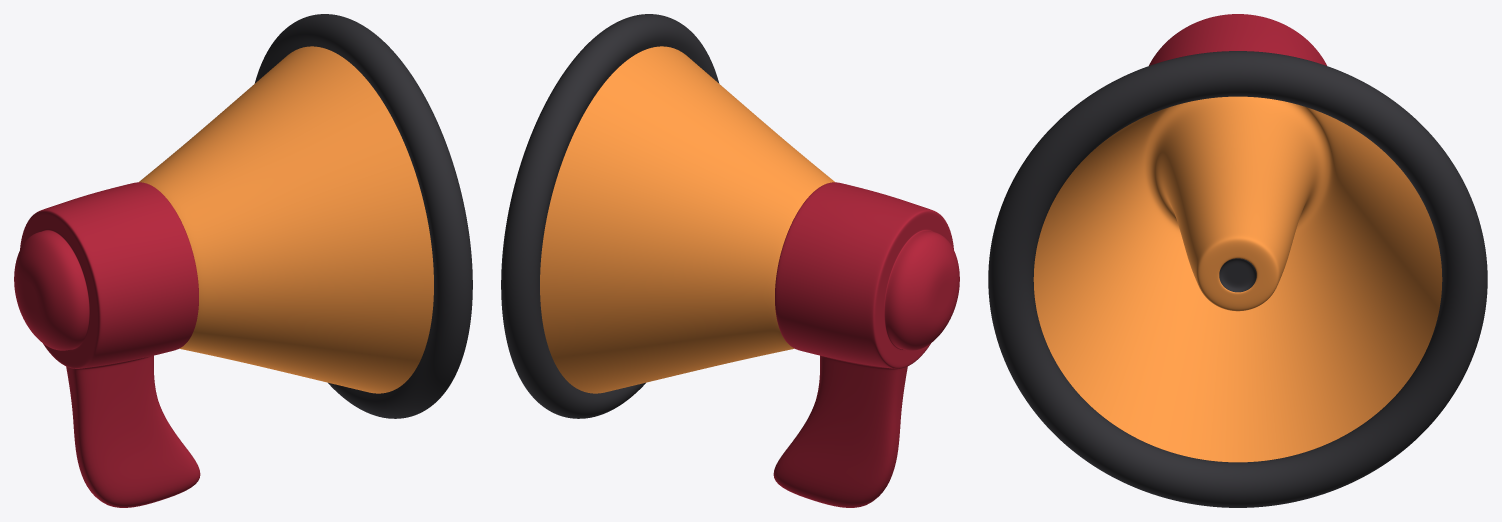
Rendered from megaphone.fbx.
3 views of the same model, side by side, from view 1: azimuth 30°, elevation 25°; view 2: azimuth 150°, elevation 25°; view 3: azimuth 270°, elevation 25° (orthographic). The views are drawn at different scales.
Parts seen in each view (by area): view 1: Annoucement; view 2: Annoucement; view 3: Annoucement.
Boxes of the visible parts, bbox=[...] form: Annoucement: bbox=[14, 14, 472, 507]; Annoucement: bbox=[501, 14, 959, 507]; Annoucement: bbox=[988, 14, 1487, 507].
Size of the model in its own units: 161 by 187 by 167.
